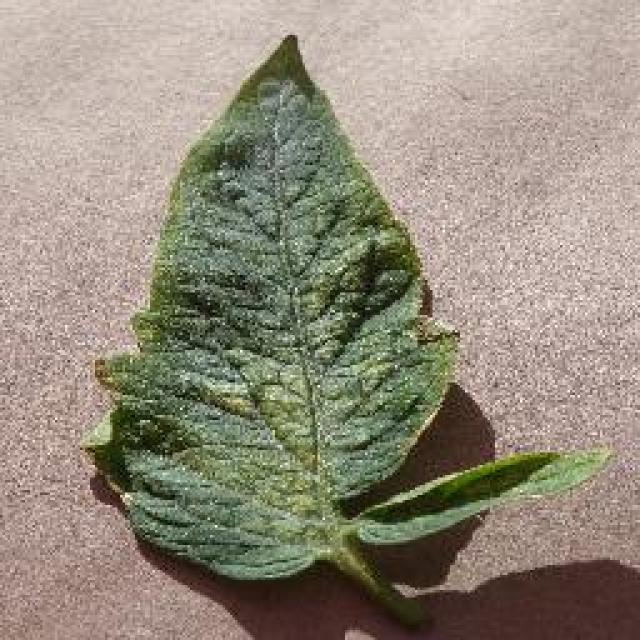Tom_Spider_mites Two-spotted_spider_mite: (169, 172, 380, 486)
